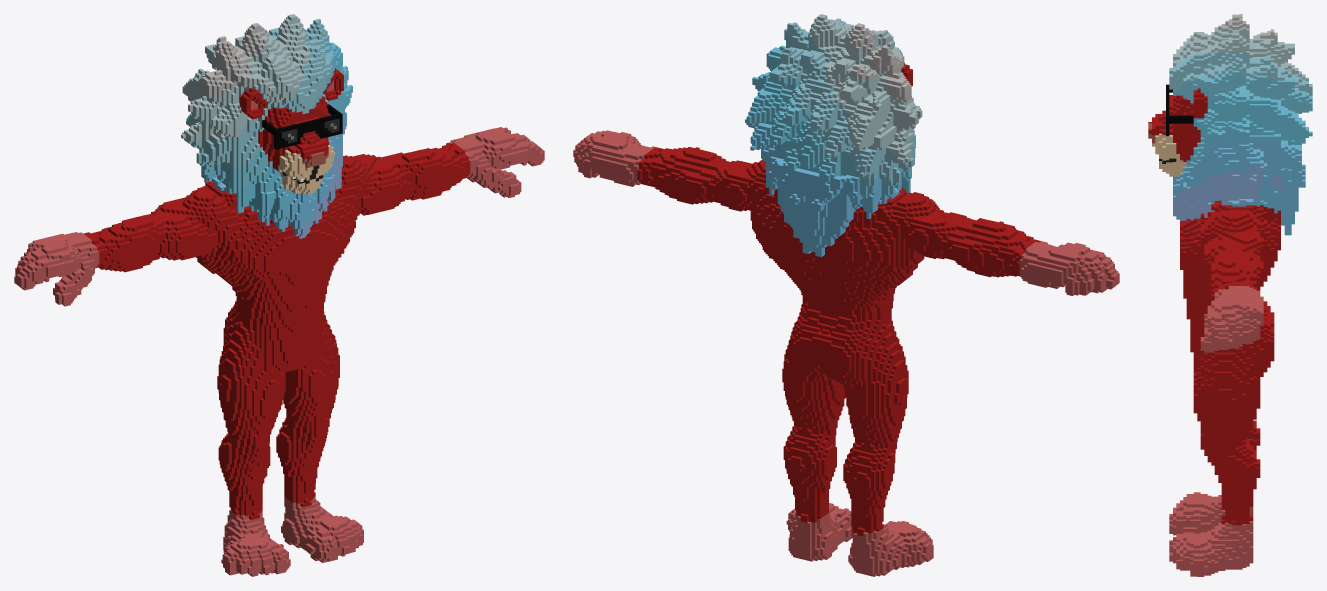
The model's file is 31-DqIUc8V1.glb.
3 renders of one model, left to right at view 1: azimuth 30°, elevation 25°; view 2: azimuth 150°, elevation 25°; view 3: azimuth 270°, elevation 25°, orthographic. The views are drawn at different scales.
Parts seen in each view (by area): view 1: smirk; view 2: smirk; view 3: smirk.
Part boxes in pixels (x1,y1,x2,y2): smirk: (14, 14, 544, 576); smirk: (573, 14, 1119, 576); smirk: (1148, 14, 1312, 576).
Size of the model in its own units: 17.2 by 16.5 by 4.7.
4 materials, 4 textured.
